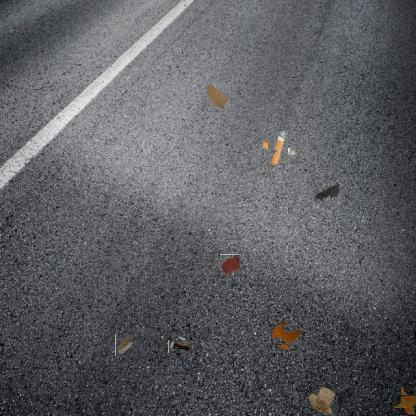dirty: (305, 384, 337, 416), (200, 82, 230, 112), (264, 134, 292, 162), (273, 322, 299, 348), (313, 182, 341, 204), (115, 334, 134, 356), (171, 337, 189, 356)
liquid: (219, 254, 241, 275), (397, 391, 416, 412)
